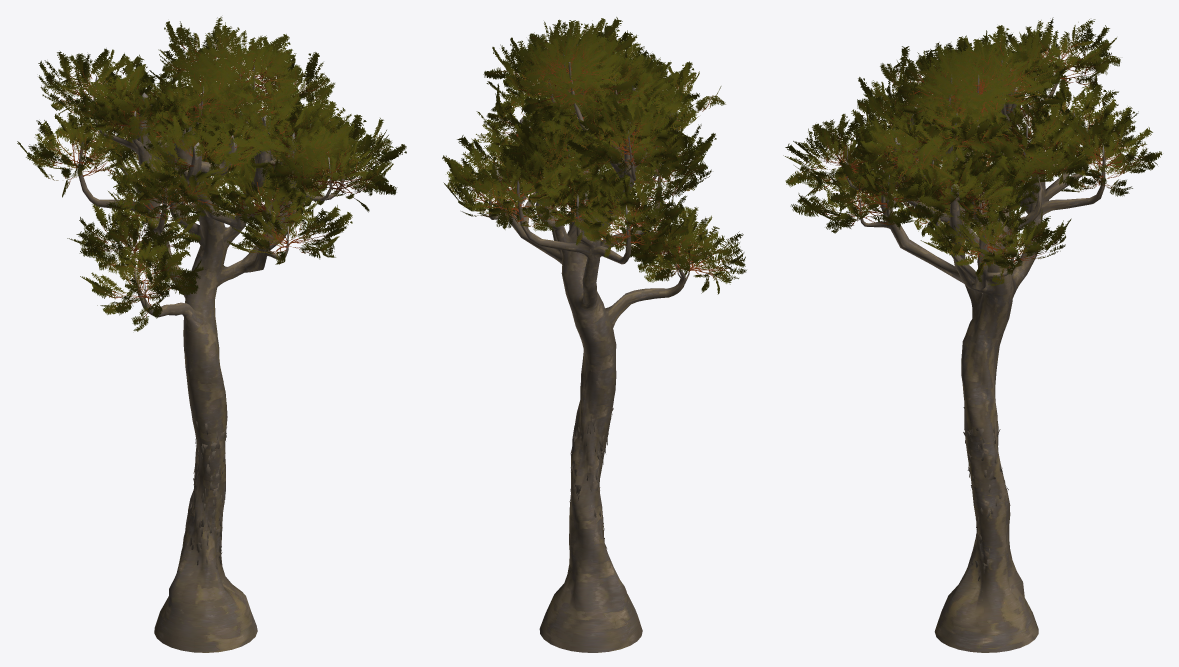
The picture shows the model from 3 angles, left to right: view 1: azimuth 30°, elevation 25°; view 2: azimuth 150°, elevation 25°; view 3: azimuth 270°, elevation 25°; orthographic projection.
Visible parts, largest first — view 1: SM_Yew_03_LOD0; view 2: SM_Yew_03_LOD0; view 3: SM_Yew_03_LOD0.
Boxes of the visible parts, x1,y1,x2,y2 form: SM_Yew_03_LOD0: [17, 16, 406, 652]; SM_Yew_03_LOD0: [442, 17, 746, 652]; SM_Yew_03_LOD0: [783, 17, 1162, 652].
Size of the model in its own units: 6.65 by 13.19 by 7.68.
Materials: 2 (2 with a texture image).
